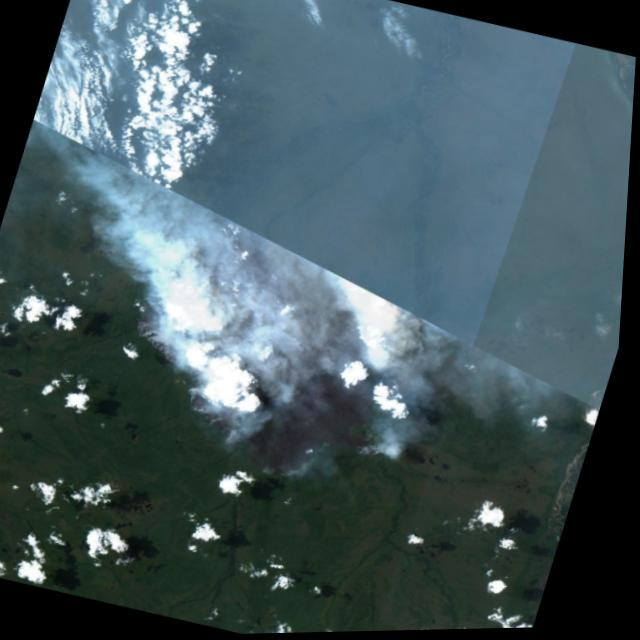fire: (94, 206, 472, 504)
